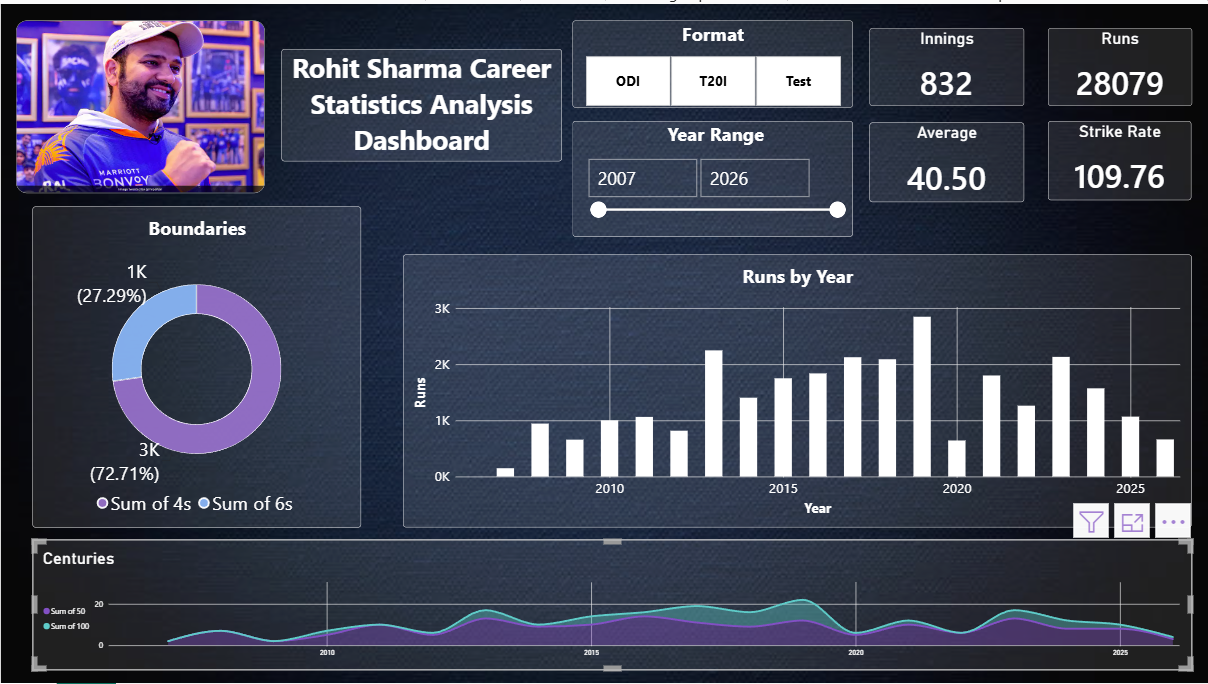

The page's visual inventory and layout, read from the dashboard file:
{"tool":"powerbi","page":{"name":"Page 1","canvas":[1920,1080],"ordinal":0},"visuals":[{"type":"image","box":[23.9,26.2,396.1,274.4],"z":0},{"type":"textbox","box":[446.2,71.6,446.2,178.9],"z":1000},{"type":"cardVisual","title":"Innings","fields":{"Data":["Sum(Sheet2.Innings)"]},"box":[1381.4,38.2,245.7,124.1],"z":2000},{"type":"cardVisual","title":"Runs","fields":{"Data":["Sum(Sheet2.Runs)"]},"box":[1665.4,38.2,229,124.1],"z":3000},{"type":"cardVisual","title":"Average","fields":{"Data":["Avg(Sheet2.Avg)"]},"box":[1381.4,188.5,245.7,126.5],"z":4000},{"type":"cardVisual","title":"Strike Rate","fields":{"Data":["Avg(Sheet2.SR)"]},"box":[1665.4,186.1,228,126],"z":5000},{"type":"slicer","title":"Format","fields":{"Values":["Sheet2.Format"]},"box":[909,26.2,446.2,138.4],"z":6000},{"type":"slicer","title":"Year Range","fields":{"Values":["Sheet2.Year"]},"box":[909,186.1,446.2,183.7],"z":7000},{"type":"clusteredColumnChart","title":"Runs by Year","fields":{"Category":["Sheet2.Year"],"Y":["Sum(Sheet2.Runs)"]},"box":[639.4,398.4,1255,434.2],"z":8000},{"type":"donutChart","title":"Boundaries","fields":{"Y":["Sum(Sheet2.4s)","Sum(Sheet2.6s)"]},"box":[50.1,322.1,522.5,510.6],"z":8001},{"type":"stackedAreaChart","title":"Centuries","fields":{"Category":["Sheet2.Year"],"Y":["Sum(Sheet2.50)","Sum(Sheet2.100)"]},"box":[50.1,851.8,1844.3,207.6],"z":8002}]}

Visuals, with their boxes in screenshot pixels (x1, y1, x2, y2), scaled from the page's 1920x1080 canvas onto the 1208x684 screenshot:
image: (15,17,264,190)
textbox: (281,45,561,159)
"Innings" cardVisual: (869,24,1024,103)
"Runs" cardVisual: (1048,24,1192,103)
"Average" cardVisual: (869,119,1024,200)
"Strike Rate" cardVisual: (1048,118,1191,198)
"Format" slicer: (572,17,853,104)
"Year Range" slicer: (572,118,853,234)
"Runs by Year" clusteredColumnChart: (402,252,1192,527)
"Boundaries" donutChart: (32,204,360,527)
"Centuries" stackedAreaChart: (32,539,1192,671)
